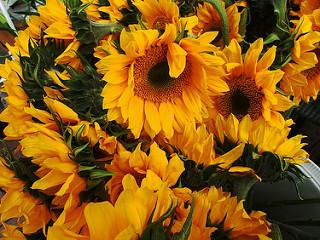sunflower: (96, 22, 223, 135), (210, 34, 277, 154)
